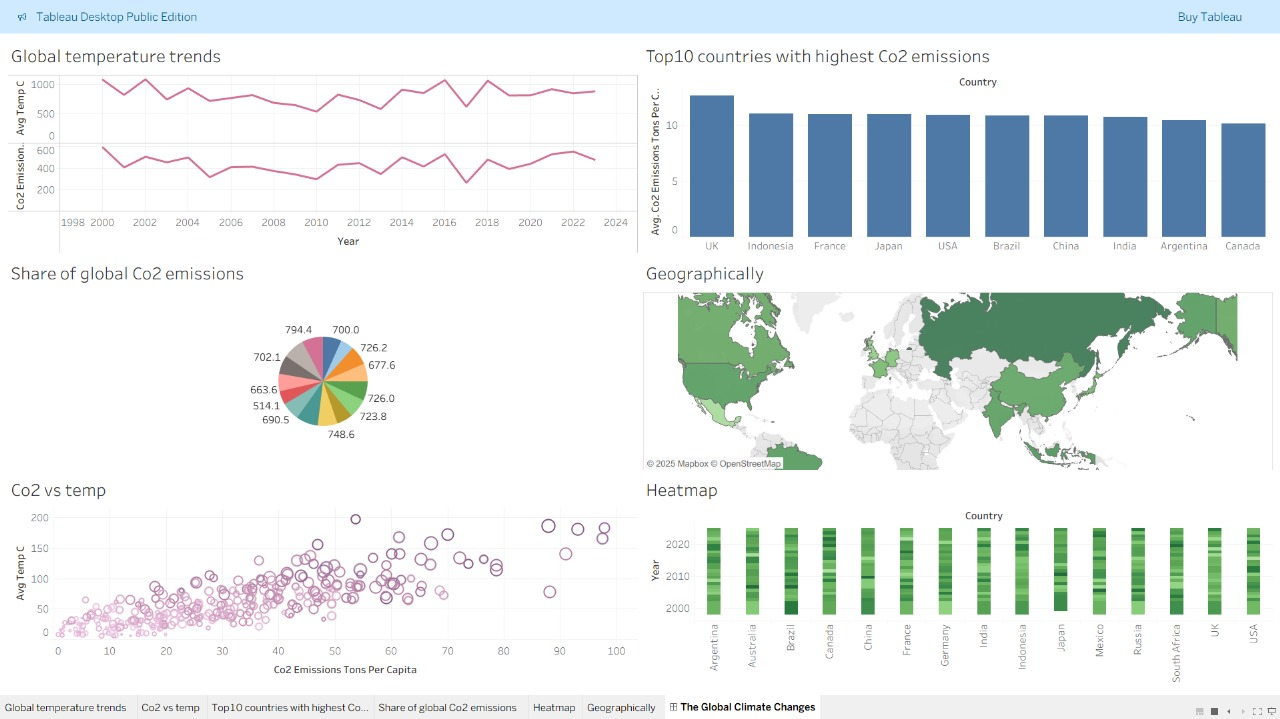

What the dashboard file says about the page in this screenshot:
{"tool":"tableau","page":{"name":"The Global Climate Changes","canvas":[1000,800],"ordinal":0},"visuals":[{"type":"worksheet","title":"Global temperature trends","mark":"Line","rows":["avg_temp_c","co2_emissions_tons_per_capita"],"cols":["year"],"box":[8,8,492,261.3]},{"type":"worksheet","title":"Top10 countries with highest Co2 emissions","mark":"Bar","rows":["co2_emissions_tons_per_capita"],"cols":["country"],"box":[500,8,492,261.3]},{"type":"worksheet","title":"Share of global Co2 emissions","mark":"Pie","box":[8,269.3,492,261.3]},{"type":"worksheet","title":"Geographically","mark":"Automatic","box":[500,269.3,492,261.3]},{"type":"worksheet","title":"Co2 vs temp","mark":"Automatic","rows":["avg_temp_c"],"cols":["co2_emissions_tons_per_capita"],"box":[8,530.6,492,261.4]},{"type":"worksheet","title":"Heatmap","mark":"Square","rows":["year"],"cols":["country"],"box":[500,530.6,492,261.4]}]}

Visuals, with their boxes on the page's 1000x800 design canvas (x1, y1, x2, y2). These are canvas units, not pixel positions in the 1280x719 screenshot, which may show the page scaled, cropped or inside an application window:
"Global temperature trends" worksheet (Line marks): left=8, top=8, right=500, bottom=269
"Top10 countries with highest Co2 emissions" worksheet (Bar marks): left=500, top=8, right=992, bottom=269
"Share of global Co2 emissions" worksheet (Pie marks): left=8, top=269, right=500, bottom=531
"Geographically" worksheet: left=500, top=269, right=992, bottom=531
"Co2 vs temp" worksheet: left=8, top=531, right=500, bottom=792
"Heatmap" worksheet (Square marks): left=500, top=531, right=992, bottom=792
